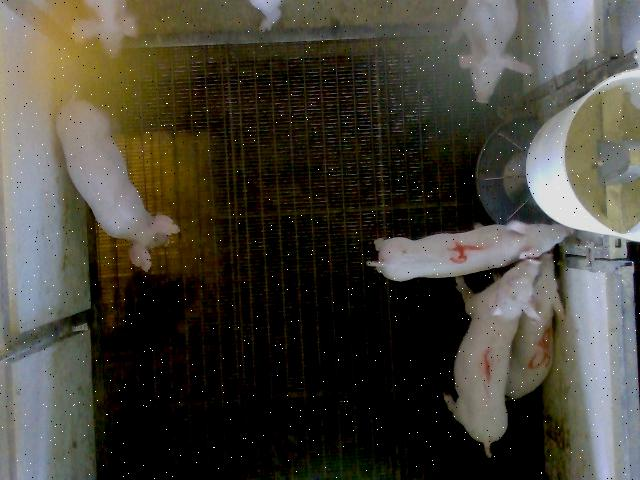pig-1: (444, 259, 540, 456)
pig-4: (368, 222, 571, 281)
pig-5: (506, 253, 564, 400)
